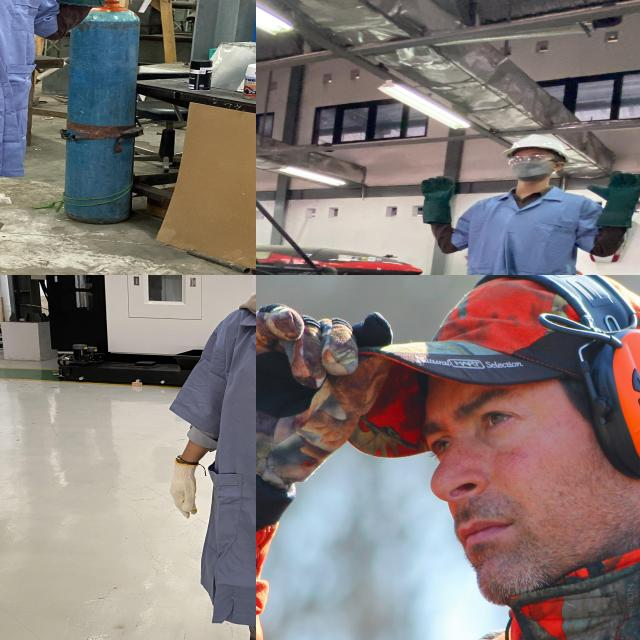Ear-protection: (421, 275, 640, 605)
No_Glasses: (413, 359, 559, 476)
face_mask: (504, 150, 557, 180)
glasses: (503, 152, 561, 166)
hand_glove: (160, 455, 206, 522), (584, 167, 640, 207), (416, 173, 460, 210)
head_helmet: (501, 130, 572, 157)
person: (0, 0, 137, 275), (408, 127, 640, 275), (162, 275, 256, 640)
